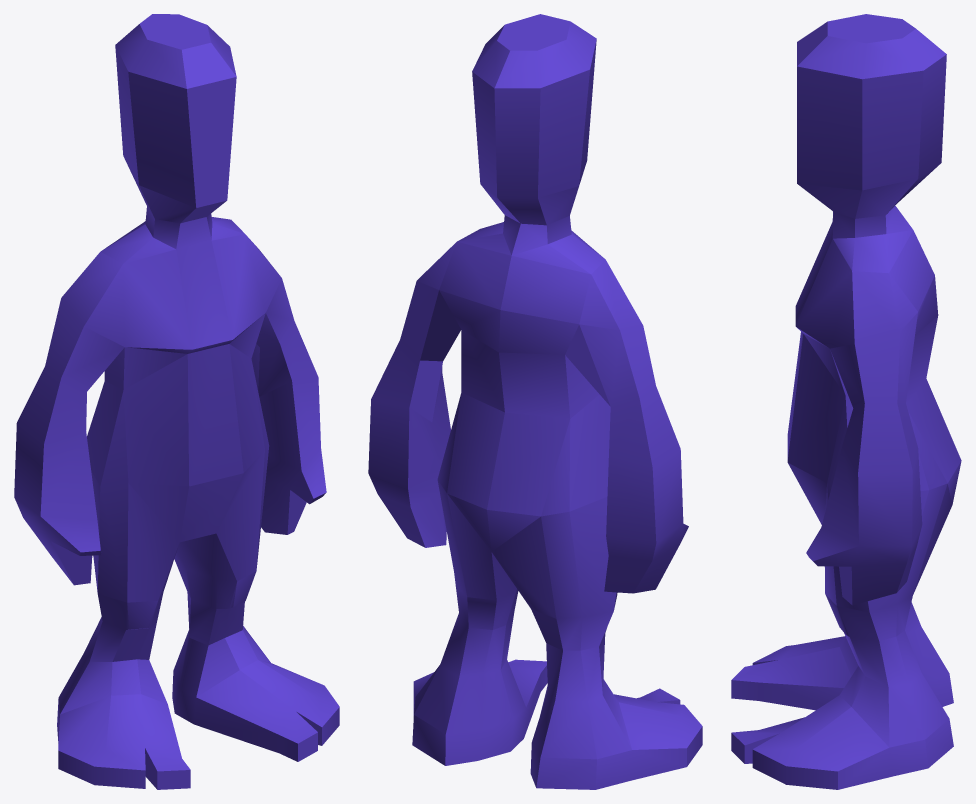
Rendered from Student.glb.
3 views of the same model, side by side, from view 1: azimuth 30°, elevation 25°; view 2: azimuth 150°, elevation 25°; view 3: azimuth 270°, elevation 25° (orthographic). The views are drawn at different scales.
Parts seen in each view (by area): view 1: Character; view 2: Character; view 3: Character.
Boxes of the visible parts, x1=… form: Character: x1=14, y1=14, x2=339, y2=789; Character: x1=368, y1=14, x2=702, y2=789; Character: x1=731, y1=14, x2=961, y2=789.
Size of the model in its own units: 0.00594 by 0.014 by 0.00421.
